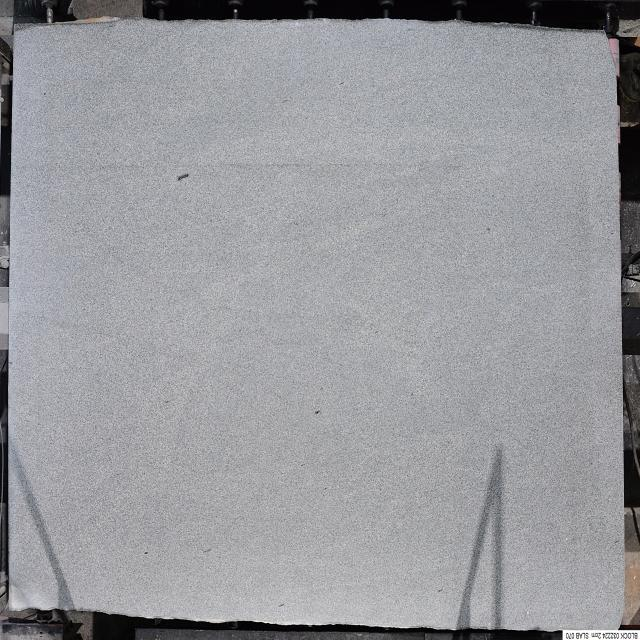chapa: (9, 19, 624, 630)
